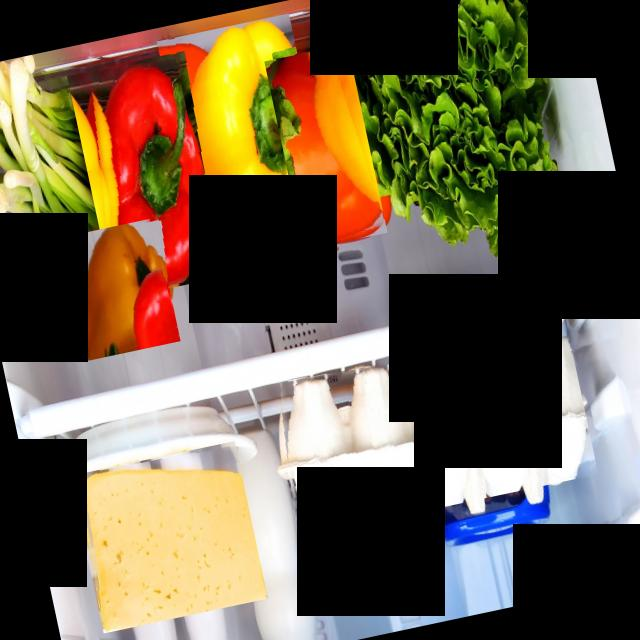cheese: (70, 440, 268, 632)
eggs: (264, 320, 598, 538)
pepper: (156, 12, 338, 277), (67, 53, 222, 300), (264, 44, 387, 250), (59, 218, 180, 360)
